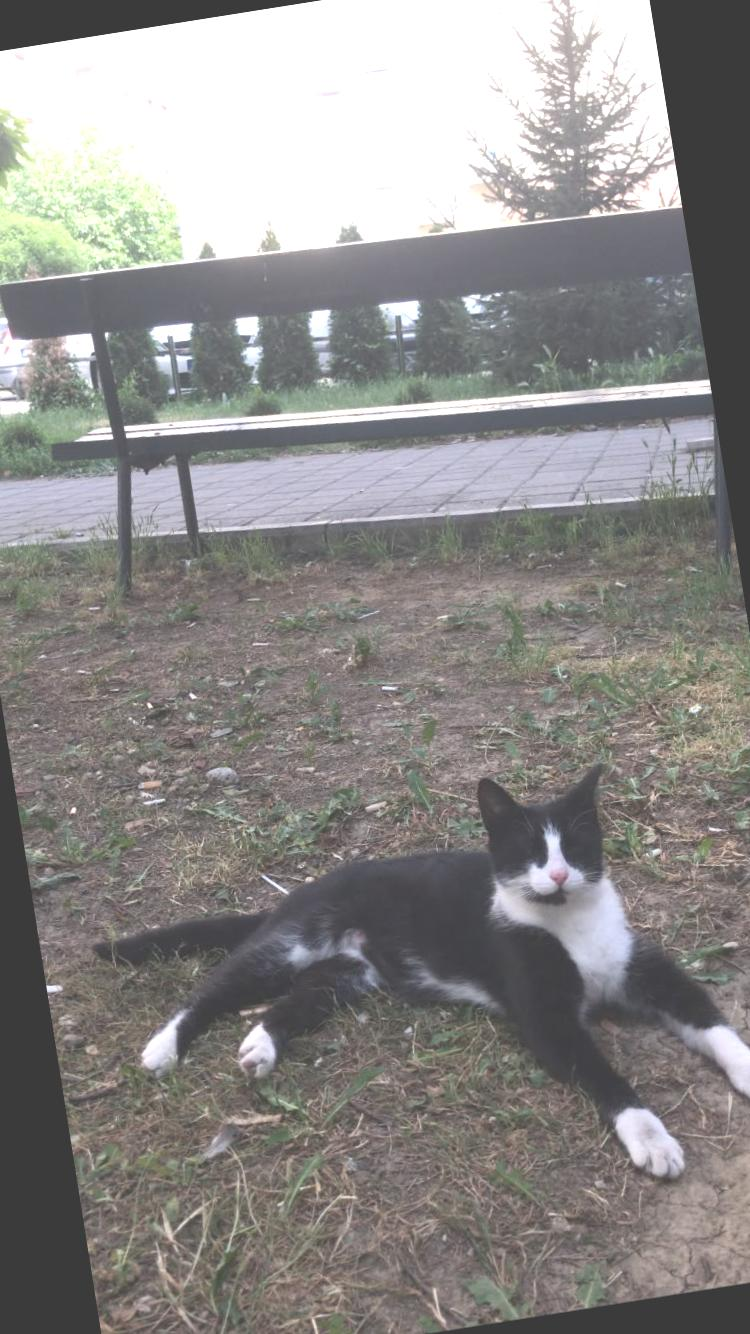macka: (74, 734, 750, 1260)
